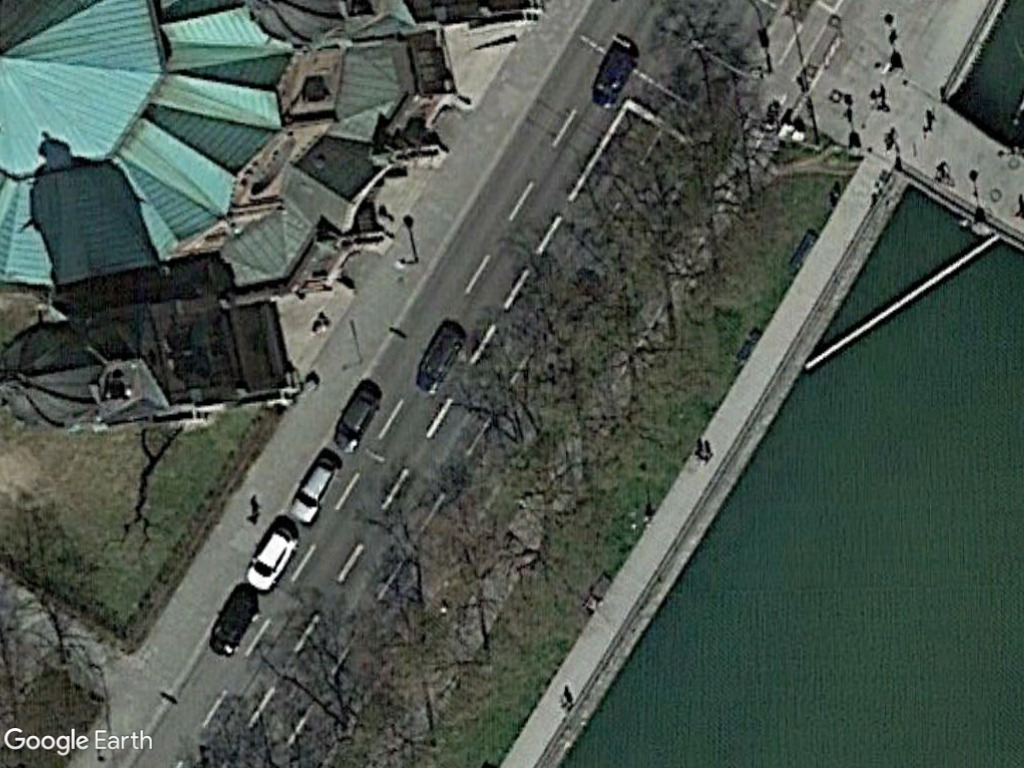car: (240, 522, 304, 595), (290, 449, 344, 533), (328, 384, 384, 456)
